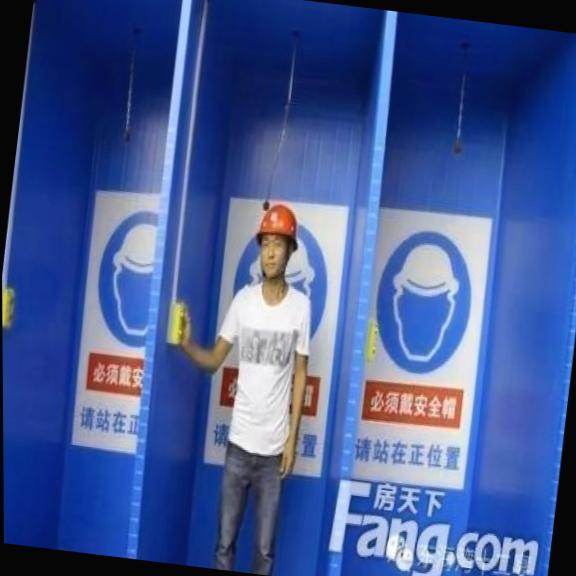no_safety_vest: (196, 277, 328, 486)
